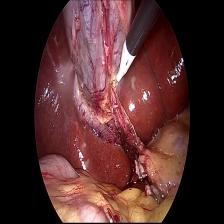Hook: (109, 38, 135, 90)
